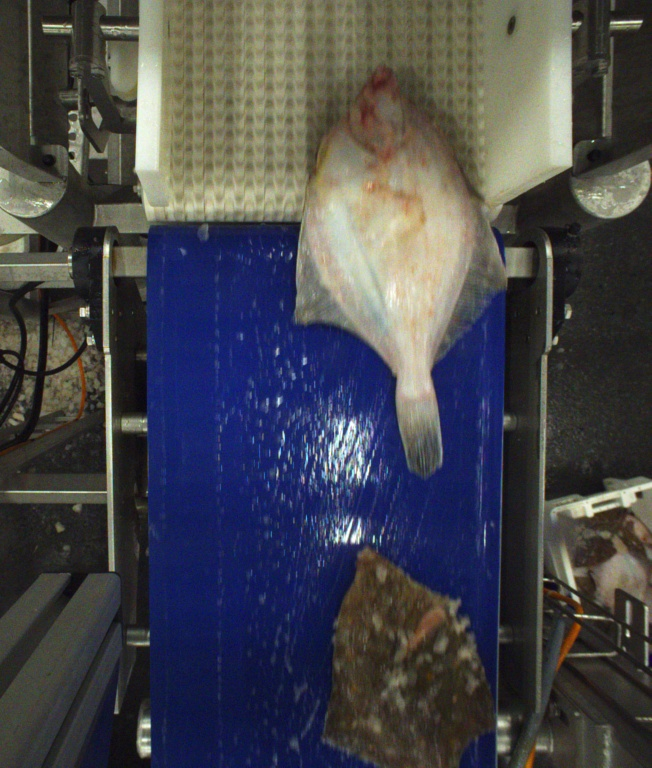PLE: (293, 66, 507, 479)
